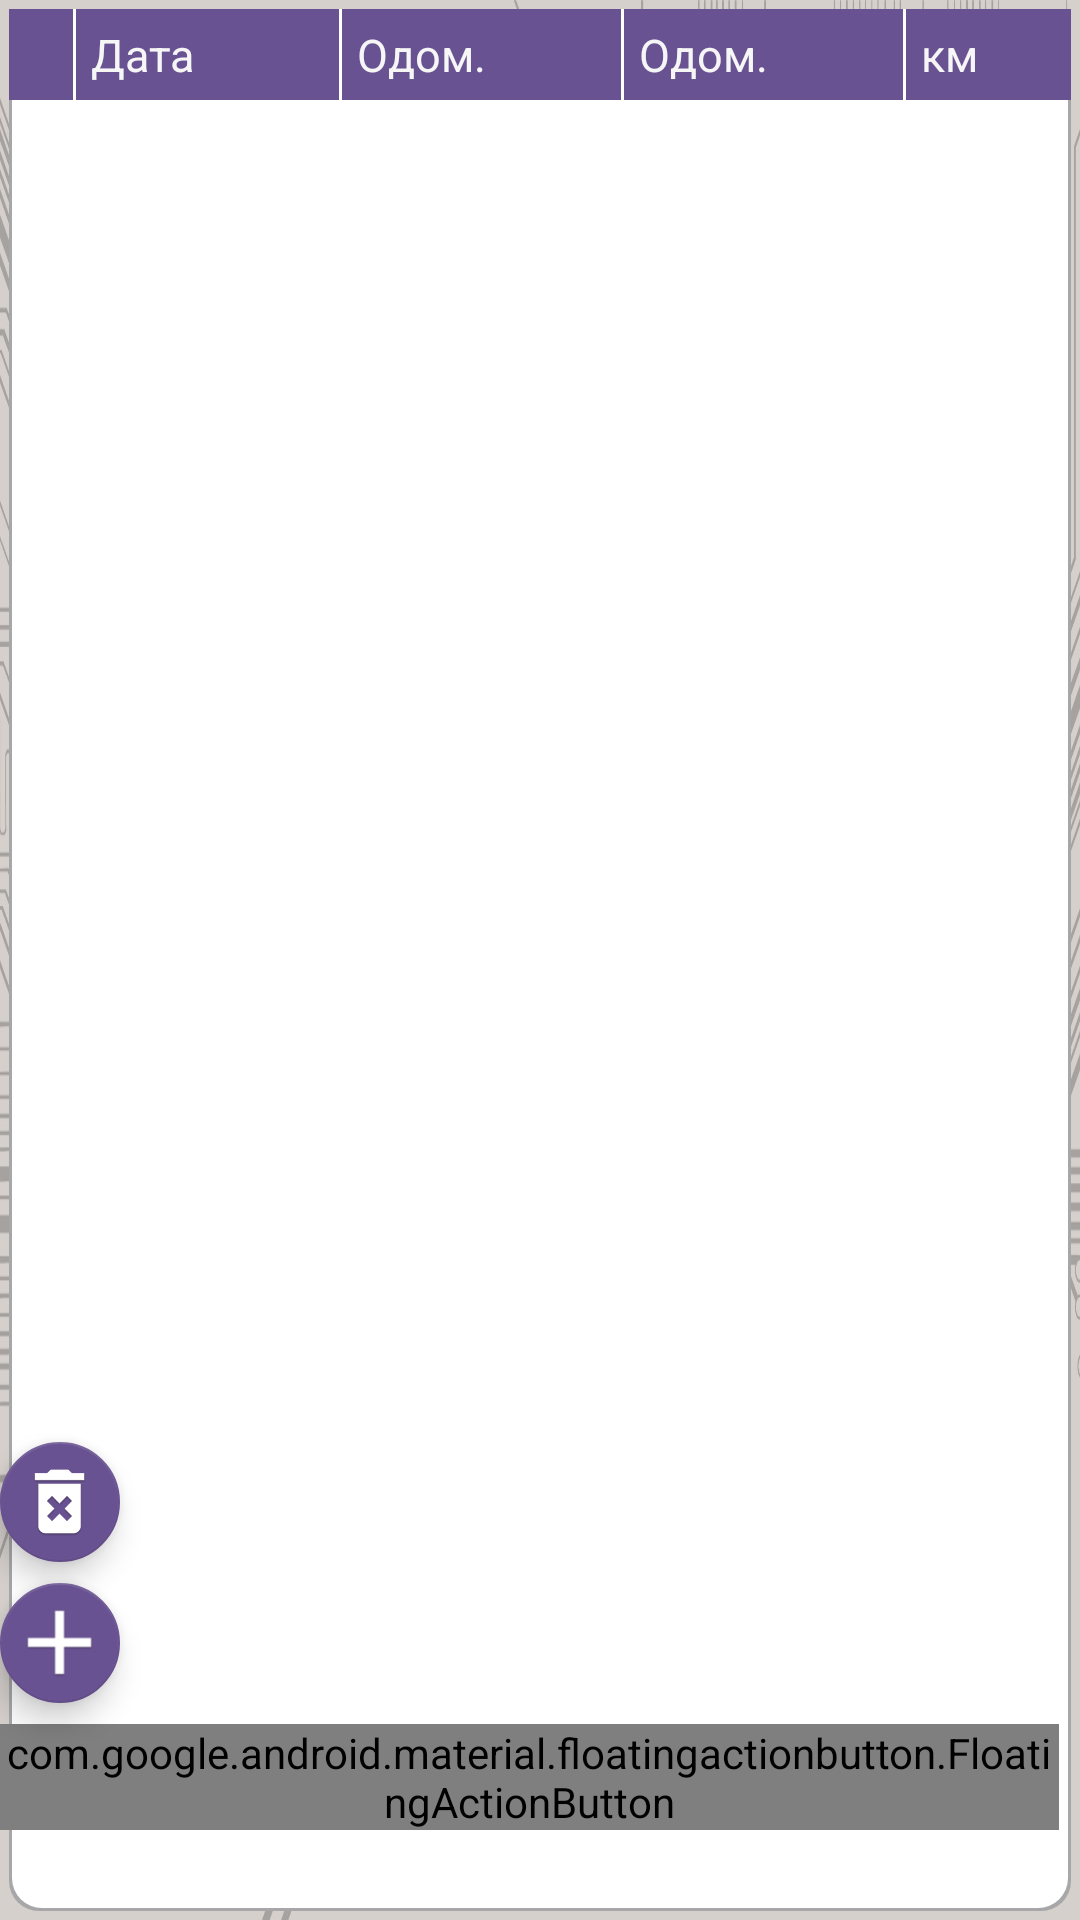

Named icons in this screenshot (1080 x 1920) and their centers, (x=x, y=y):
delete: (x=60, y=1502)
plus: (x=60, y=1643)
